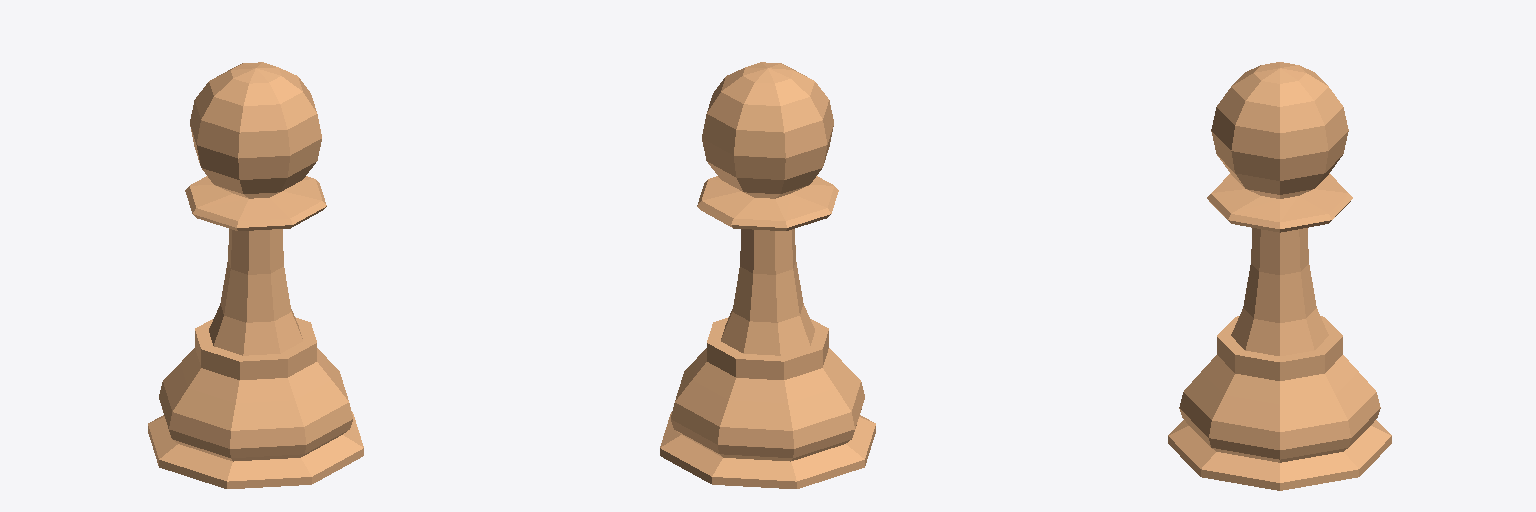
The model's file is white.obj.
The picture shows the model from 3 angles: view 1: azimuth 30°, elevation 25°; view 2: azimuth 150°, elevation 25°; view 3: azimuth 270°, elevation 25°; orthographic projection.
Bounding box in the file's own units: 1.28 × 2.36 × 1.28.